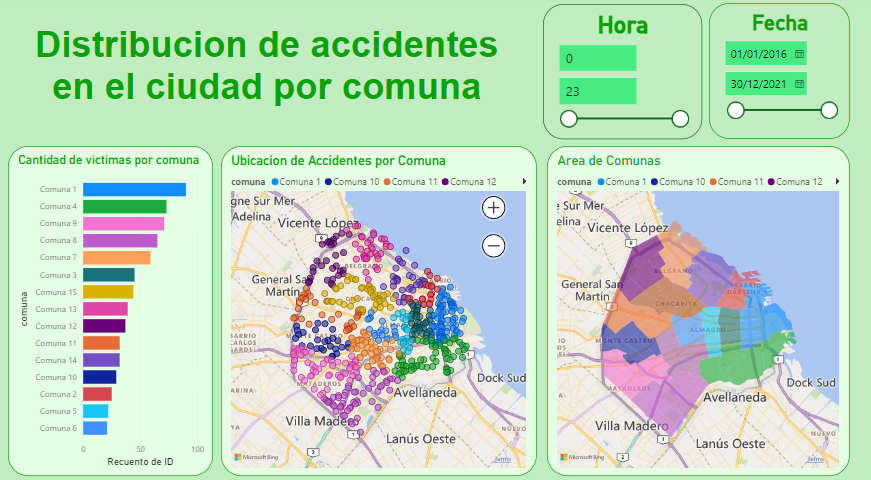

Layout of this report page (visuals, bound fields, positions):
{"tool":"powerbi","page":{"name":"Mapa","canvas":[1280,720],"ordinal":1},"visuals":[{"type":"filledMap","title":"Area de Comunas","fields":{"Category":["barrios.barrios"],"Series":["barrios.comuna"]},"box":[802,221,443.4,482.9],"z":0},{"type":"map","title":"Ubicacion de Accidentes por Comuna","fields":{"Y":["hechos.y"],"X":["hechos.x"],"Series":["barrios.comuna"]},"box":[324.9,221,462.4,482.9],"z":1000},{"type":"textbox","box":[13.2,36.6,758,150.7],"z":3000},{"type":"slicer","title":"Fecha","fields":{"Values":["hechos.fecha"]},"box":[1039,11.7,206.3,199],"z":4000},{"type":"slicer","title":"Hora","fields":{"Values":["hechos.hora"]},"box":[796.1,13.2,232.7,197.6],"z":5000},{"type":"barChart","title":"Cantidad de victimas por comuna","fields":{"Y":["CountNonNull(hechos.ID)"],"Category":["barrios.comuna"],"Series":["barrios.comuna"]},"box":[13.2,221,300,482.9],"z":6000}]}

Visuals, with their boxes in screenshot pixels (x1, y1, x2, y2), scaled from the page's 1280x720 canvas onto the 871x480 screenshot:
"Area de Comunas" filledMap: <box>546,147,847,469</box>
"Ubicacion de Accidentes por Comuna" map: <box>221,147,536,469</box>
textbox: <box>9,24,525,125</box>
"Fecha" slicer: <box>707,8,847,140</box>
"Hora" slicer: <box>542,9,700,141</box>
"Cantidad de victimas por comuna" barChart: <box>9,147,213,469</box>
